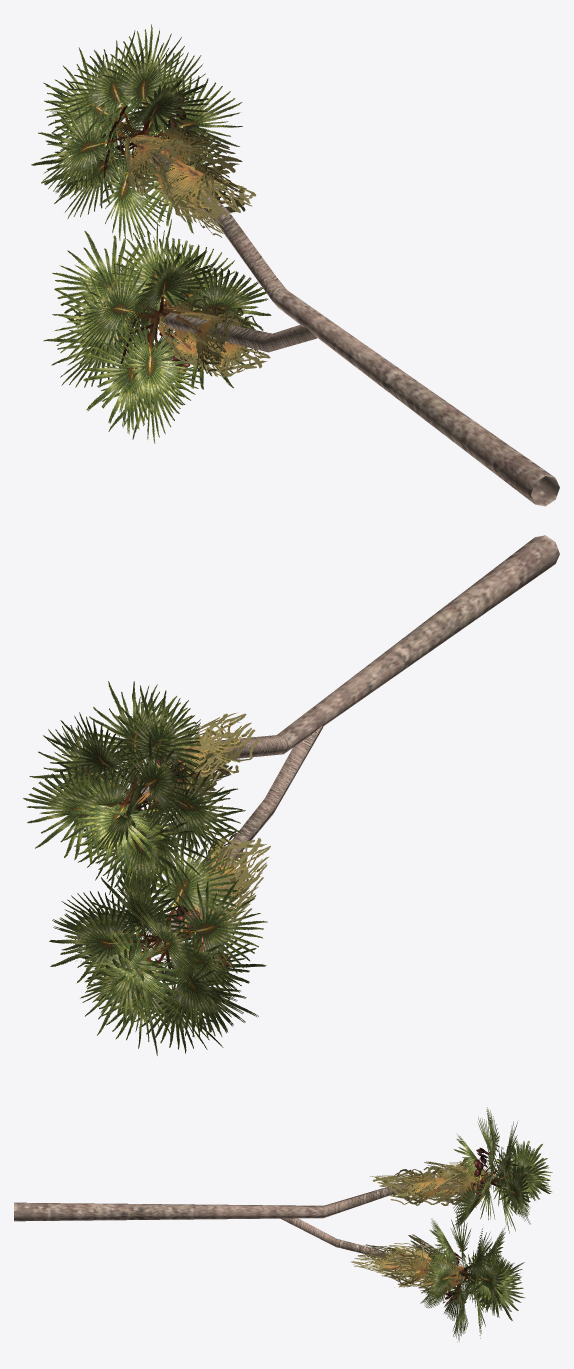
Rendered from palm_doum_1.glb.
3 renders of one model, top to bottom at view 1: azimuth 30°, elevation 25°; view 2: azimuth 150°, elevation 25°; view 3: azimuth 270°, elevation 25°, orthographic. The views are drawn at different scales.
Size of the model in its own units: 5.83 by 10.42 by 21.37.
Materials: 1 (1 with a texture image).
